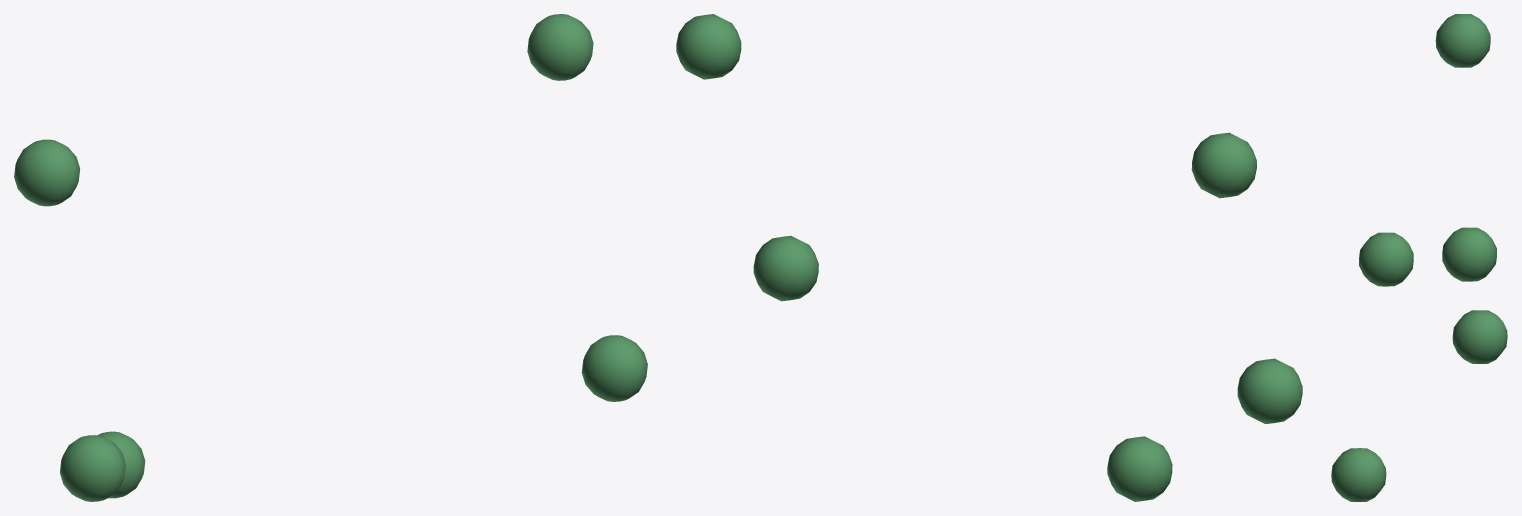
3 renders of one model, left to right at view 1: azimuth 30°, elevation 25°; view 2: azimuth 150°, elevation 25°; view 3: azimuth 270°, elevation 25°, orthographic. The views are drawn at different scales.
Parts seen in each view (by area): view 1: 气管支气管上淋巴结; view 2: 气管支气管上淋巴结; view 3: 气管支气管上淋巴结.
Part boxes in pixels (x1,y1,x2,y2): 气管支气管上淋巴结: [14, 14, 647, 501]; 气管支气管上淋巴结: [676, 14, 1302, 501]; 气管支气管上淋巴结: [1331, 14, 1507, 501].
Size of the model in its own units: 0.0379 by 0.0238 by 0.012.
